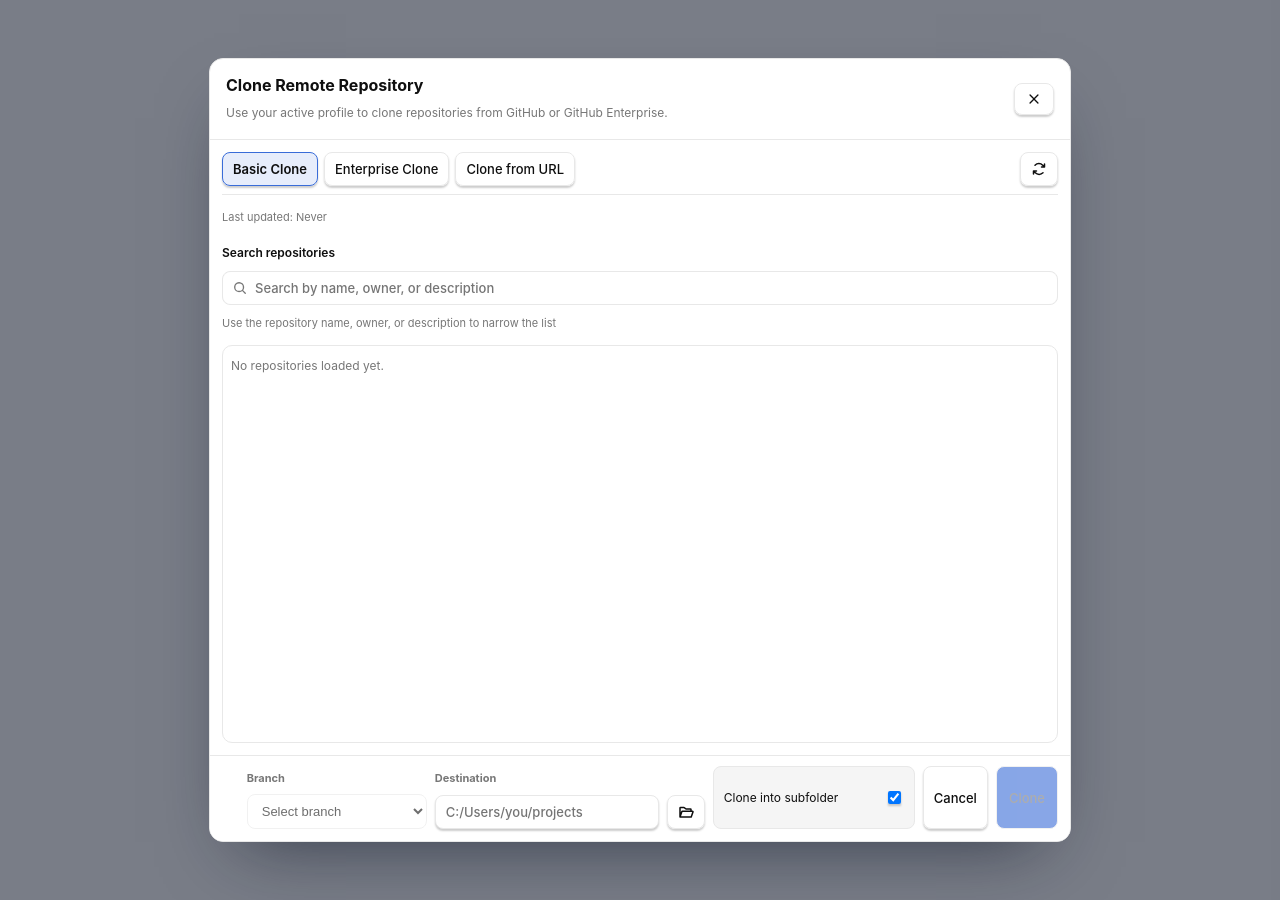
Test: CloneRemoteRepositoryModal › shows a clear button for repository search and clears the input
In the field labelled "Search repositories": [640, 288] box [223,272,1057,304], type "alpha"
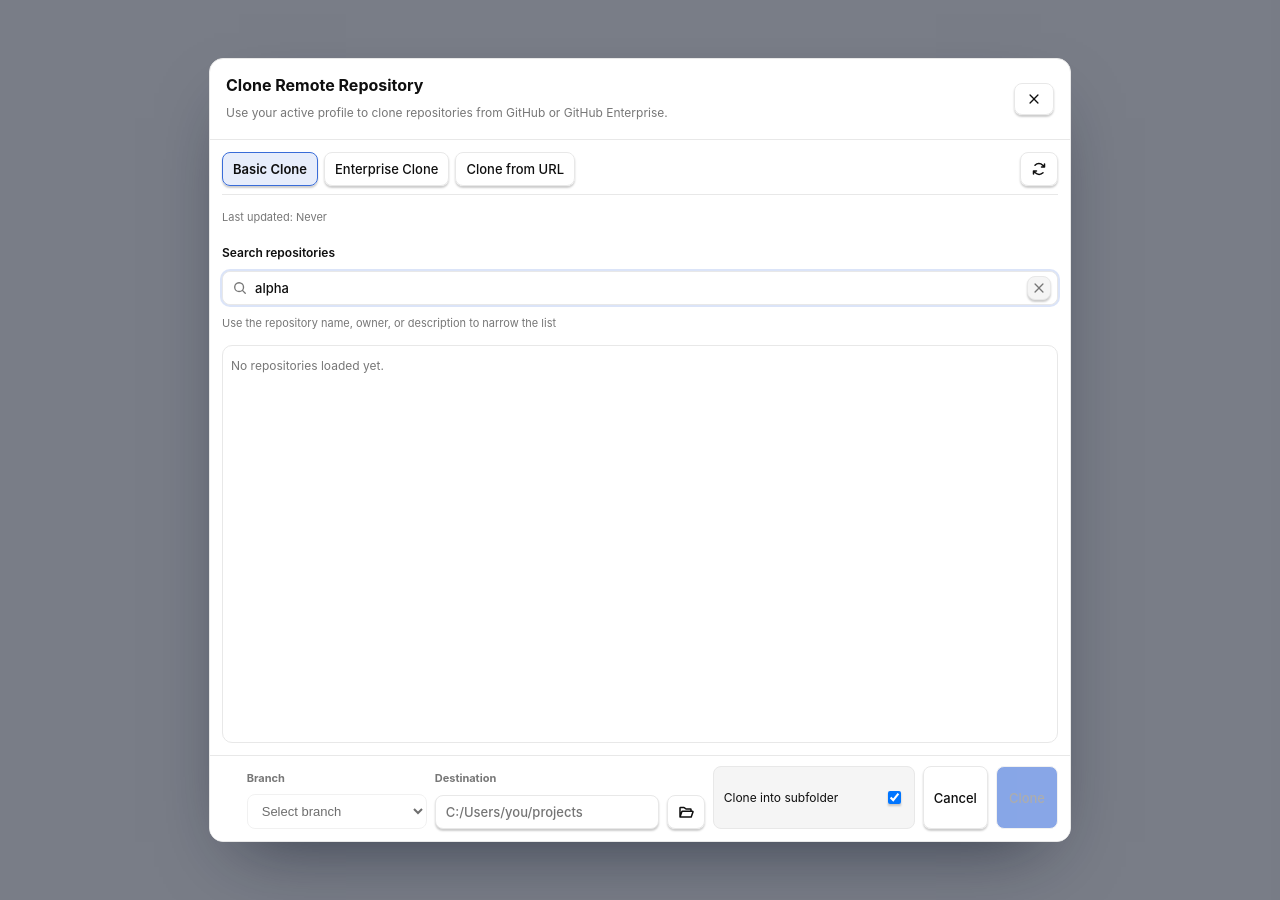
Check: the button named "clear search" is shown
Click the button named "clear search": [1039, 288] box [1027,276,1051,300]
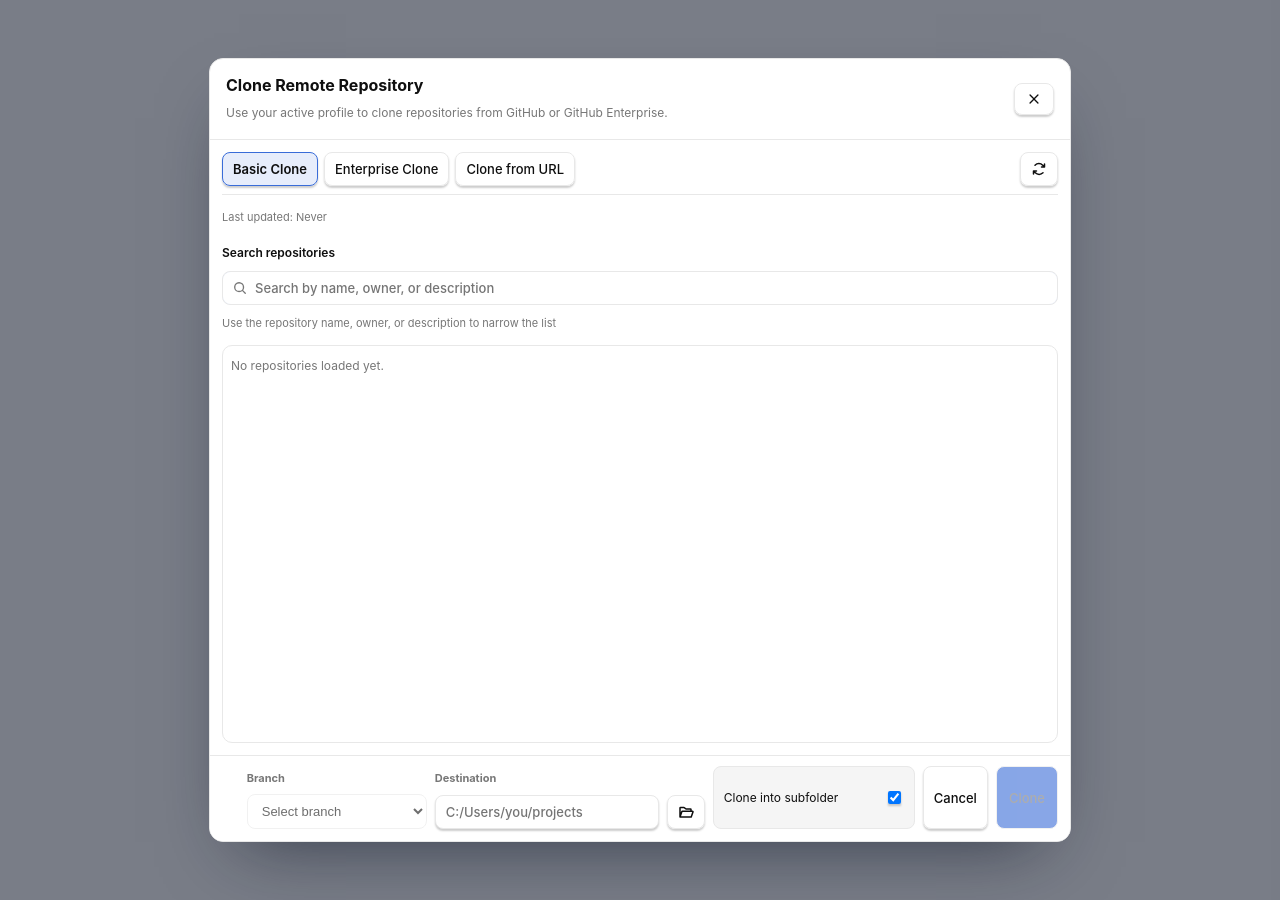
Check: the field labelled "Search repositories" is empty, box [223,272,1057,304]
